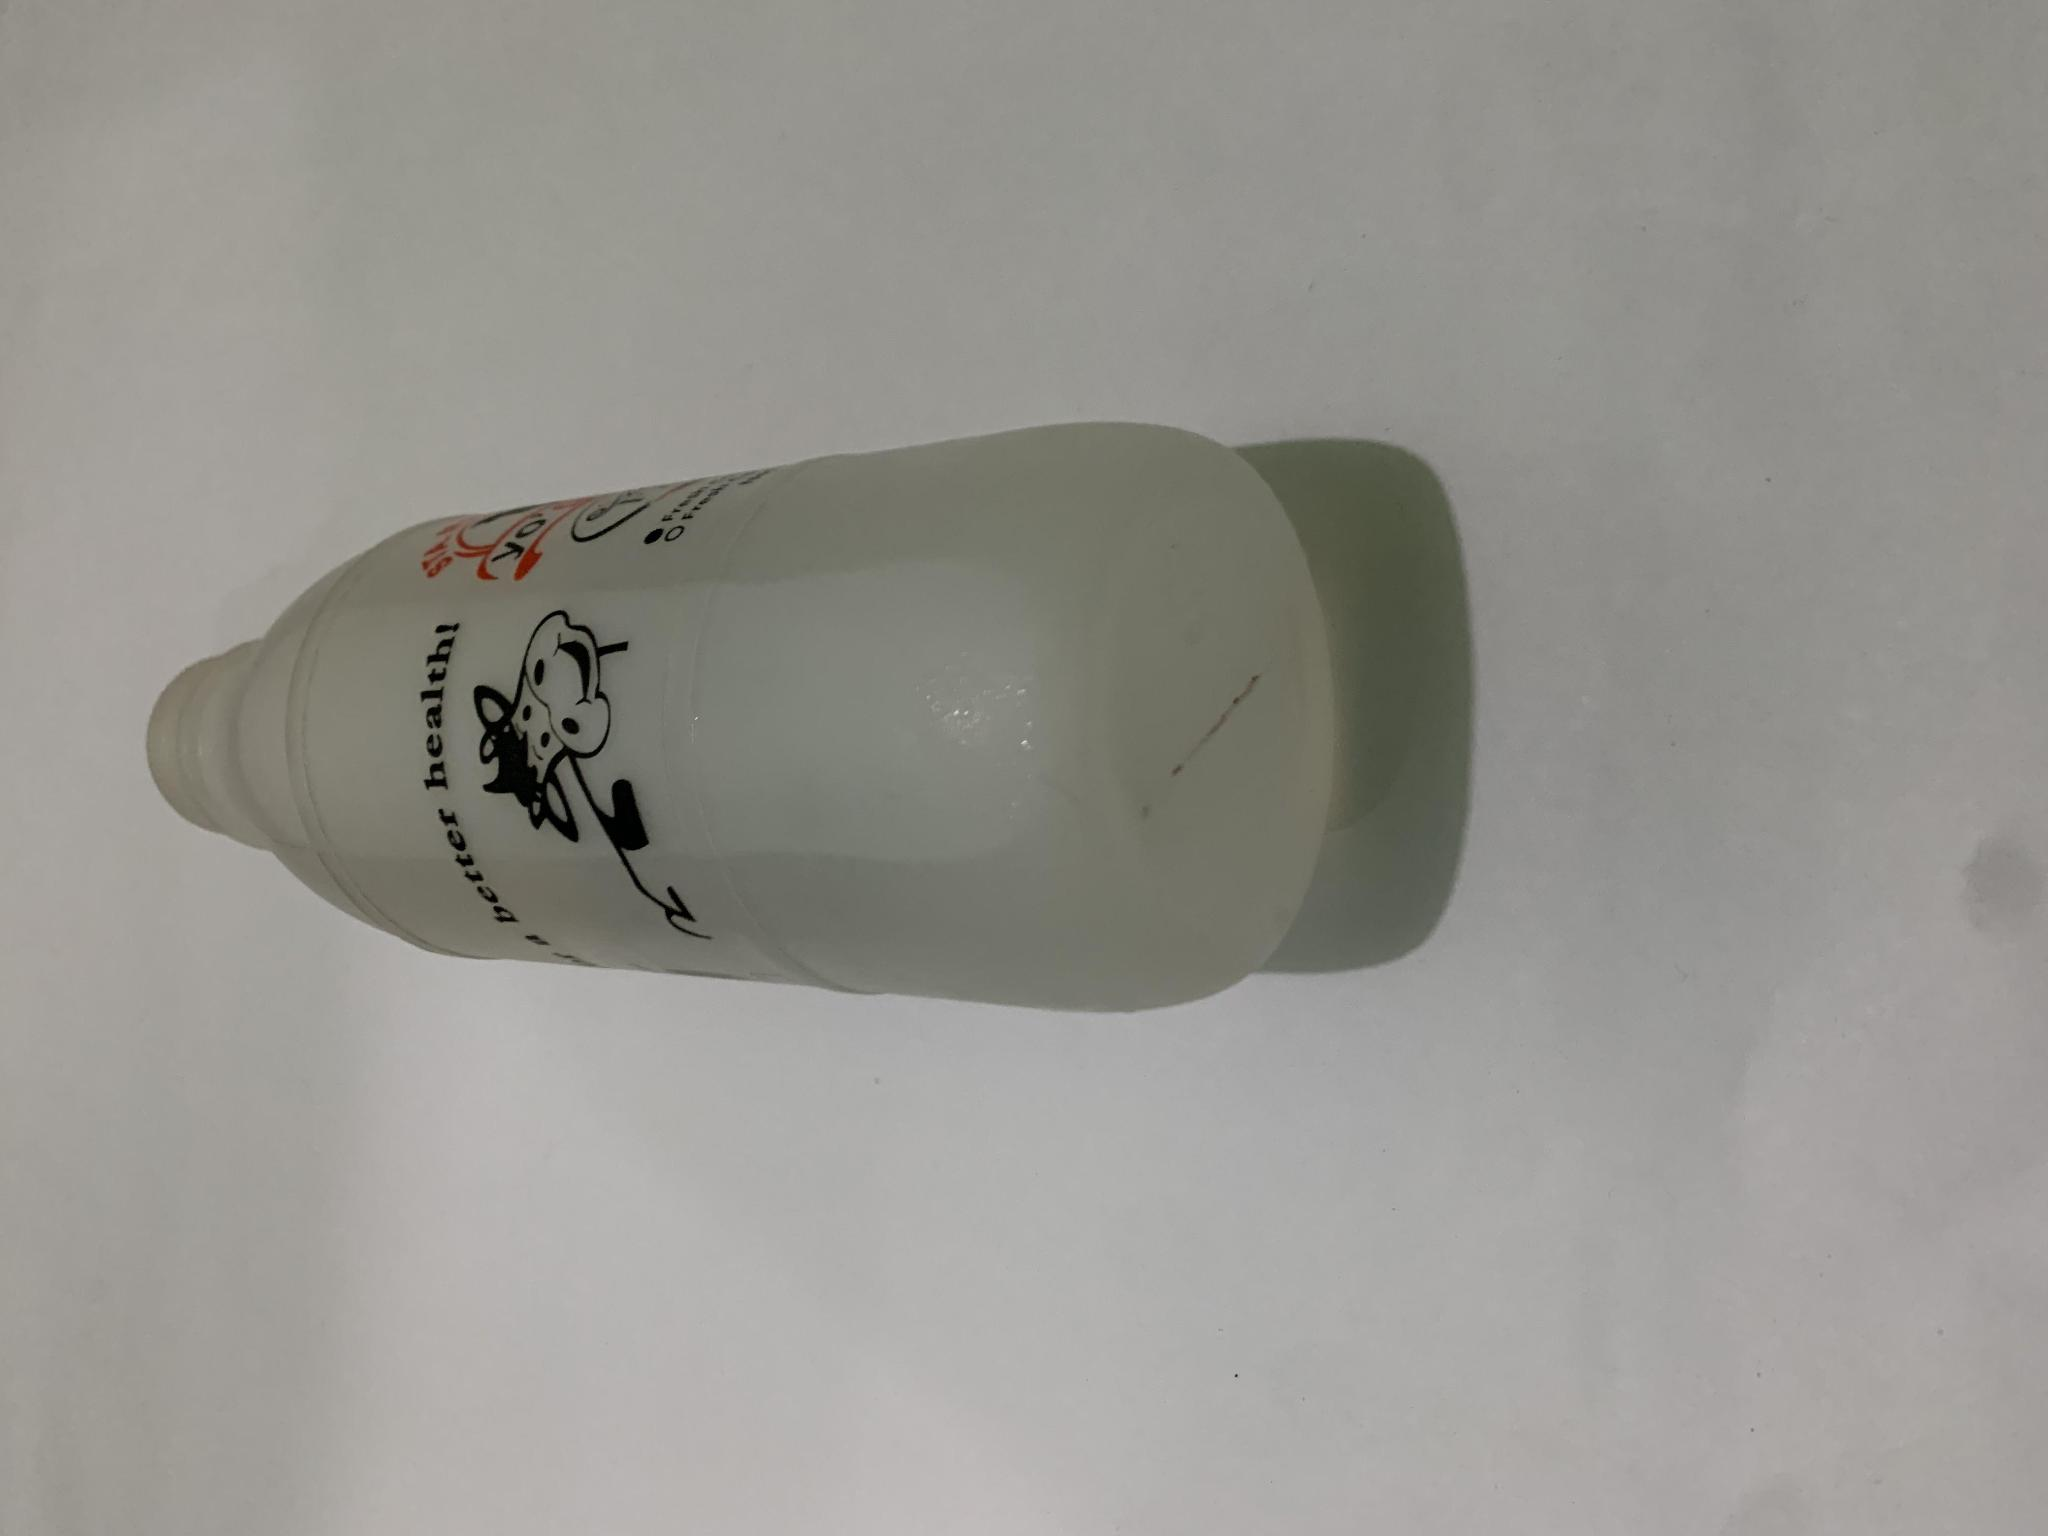bottle: (53, 418, 1463, 994)
